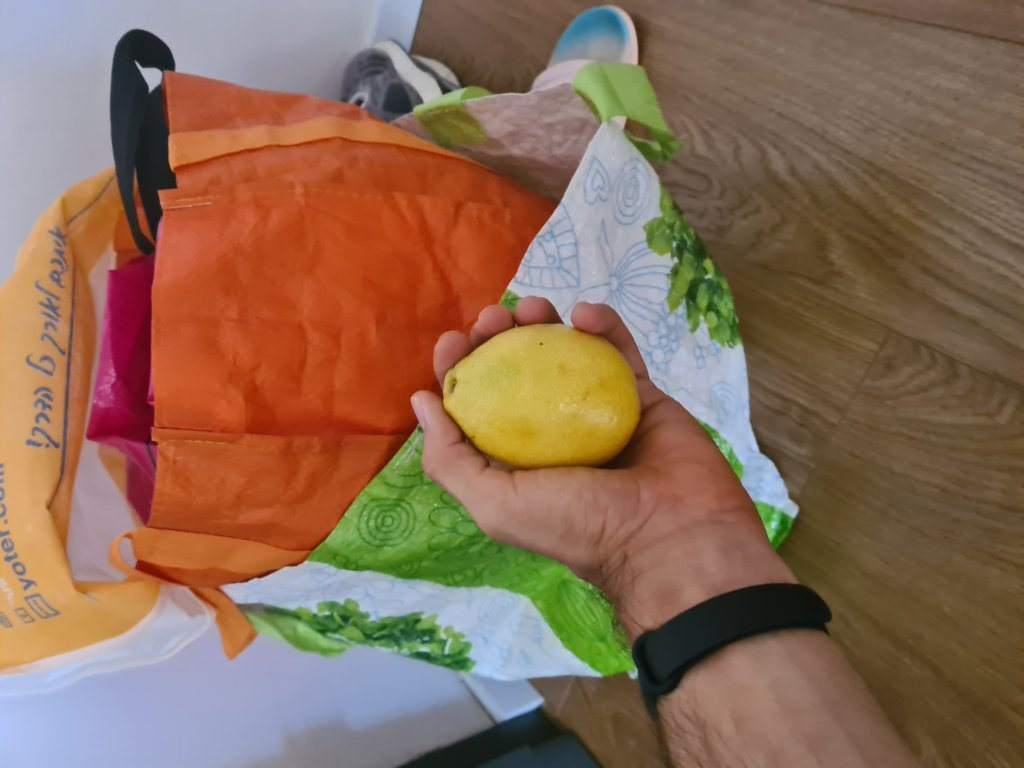lemon: (442, 325, 646, 471)
